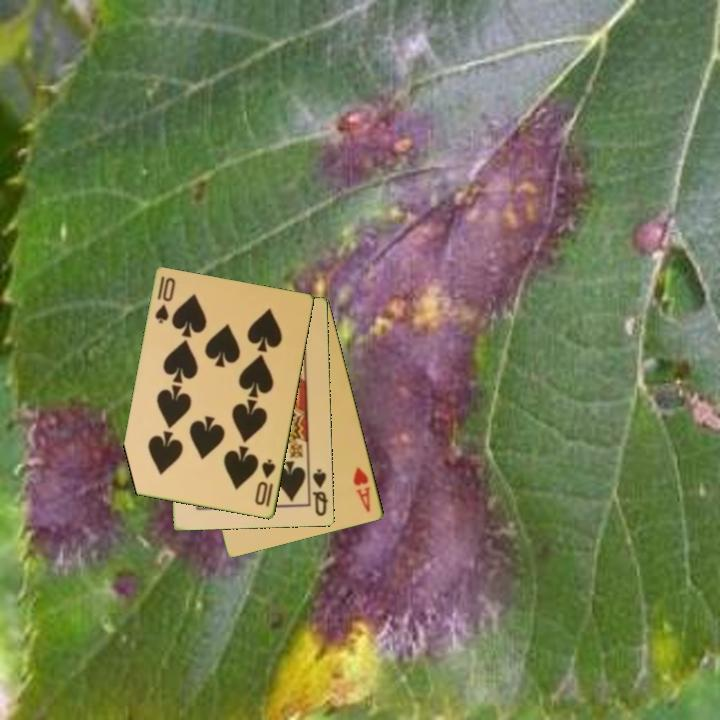10s: (252, 456, 279, 510), (152, 273, 179, 327)
Ah: (350, 463, 374, 515)
Qs: (309, 465, 331, 519)
